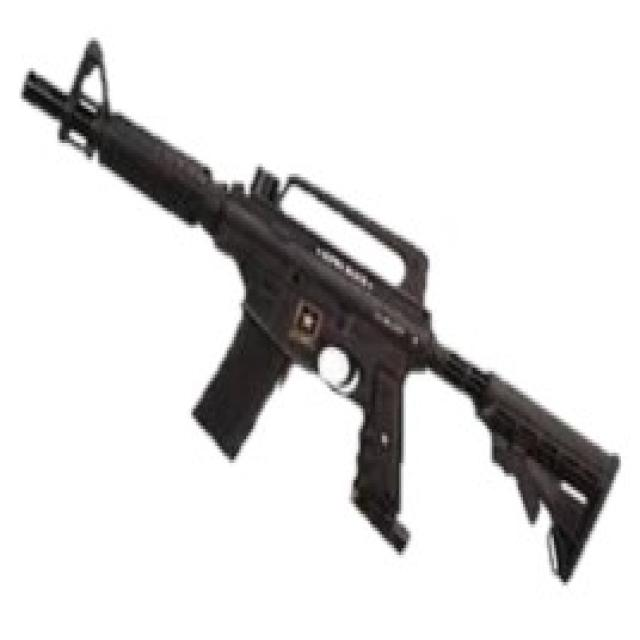rifle: (17, 31, 625, 590)
